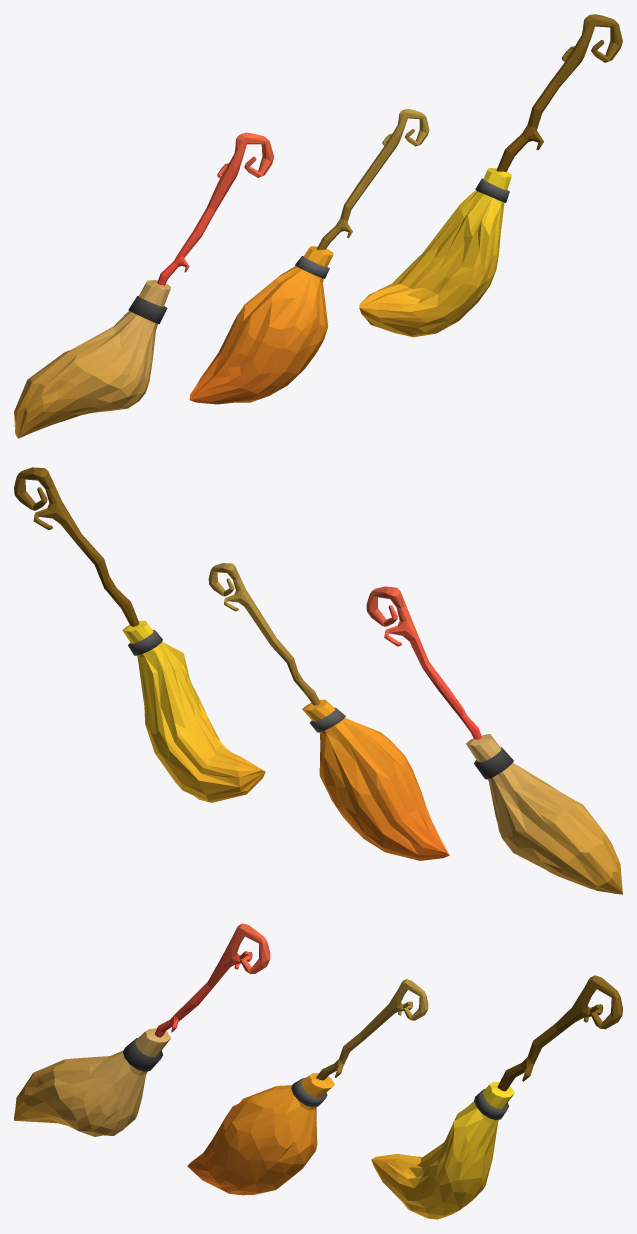
Rendered from Broom Set.glb.
3 views of the same model, one above another, from view 1: azimuth 30°, elevation 25°; view 2: azimuth 150°, elevation 25°; view 3: azimuth 330°, elevation 25° (orthographic).
Visible parts, largest first — view 1: WitchBroom.001, WitchBroom, WitchBroom.002; view 2: WitchBroom, WitchBroom.001, WitchBroom.002; view 3: WitchBroom, WitchBroom.002, WitchBroom.001.
Boxes of the visible parts, box(x1,y1,x2,y2) form: WitchBroom.001: box(359, 14, 622, 337); WitchBroom: box(189, 109, 429, 404); WitchBroom.002: box(14, 132, 274, 438); WitchBroom: box(208, 563, 449, 860); WitchBroom.001: box(14, 467, 265, 802); WitchBroom.002: box(366, 586, 622, 894); WitchBroom: box(187, 979, 428, 1195); WitchBroom.002: box(14, 923, 270, 1136); WitchBroom.001: box(371, 975, 622, 1219).
Size of the model in its own units: 4 by 1.88 by 0.5364.
Materials: 1 (1 with a texture image).
